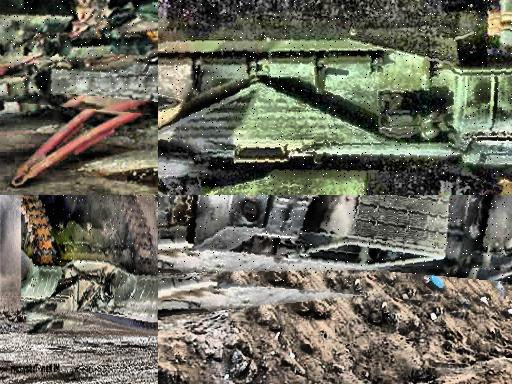tanks: (159, 1, 512, 196), (159, 196, 512, 283), (23, 196, 157, 318), (1, 1, 159, 85)
